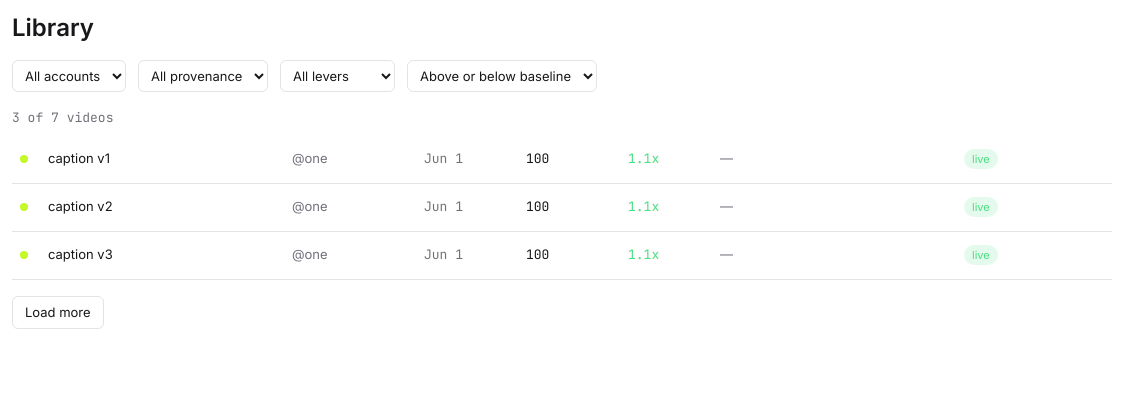
Test: load more fetches the next offset
This screenshot has width=1129, height=394.
Click the button "Load more": (58, 312) [12,296,104,329]
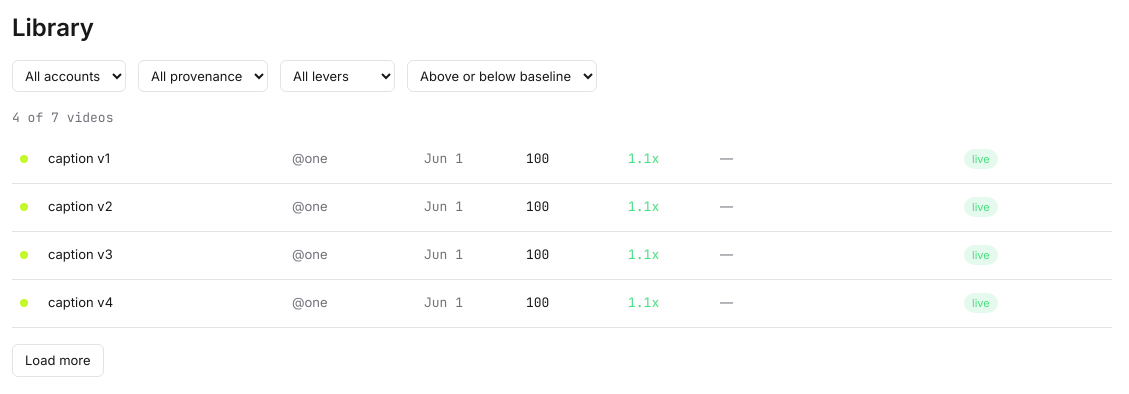
Check: the text "4 of 7 videos" is shown, box [12,109,113,126]
